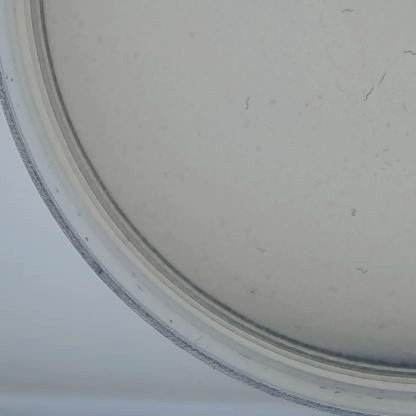worm: (344, 202, 363, 225), (247, 240, 269, 259), (338, 5, 360, 21), (399, 48, 416, 67), (372, 70, 395, 84), (243, 90, 255, 116), (361, 86, 376, 105), (350, 264, 371, 277), (395, 95, 408, 112)
